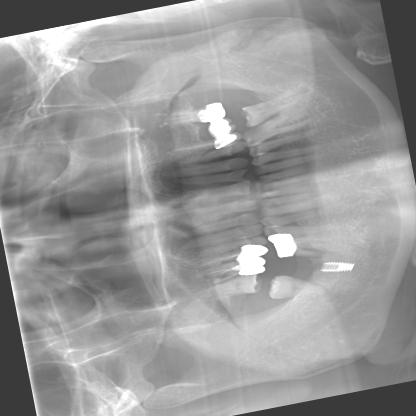Bicon: (310, 259, 360, 274)
